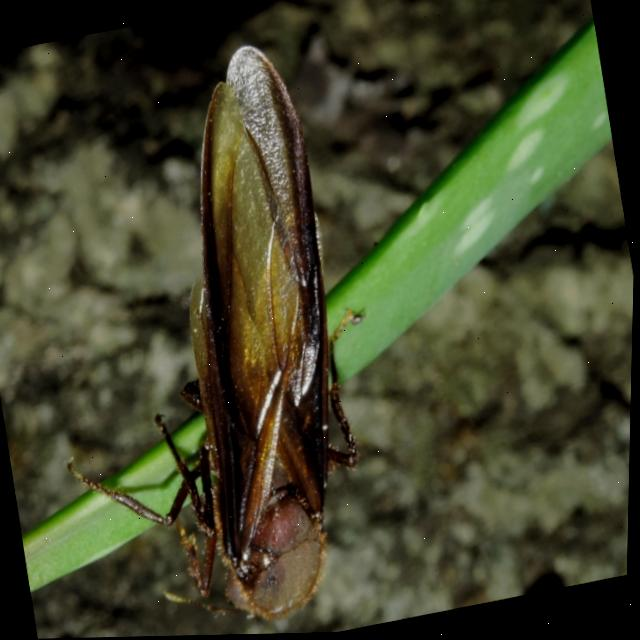Alive-Female-Alate: (0, 30, 421, 640)
